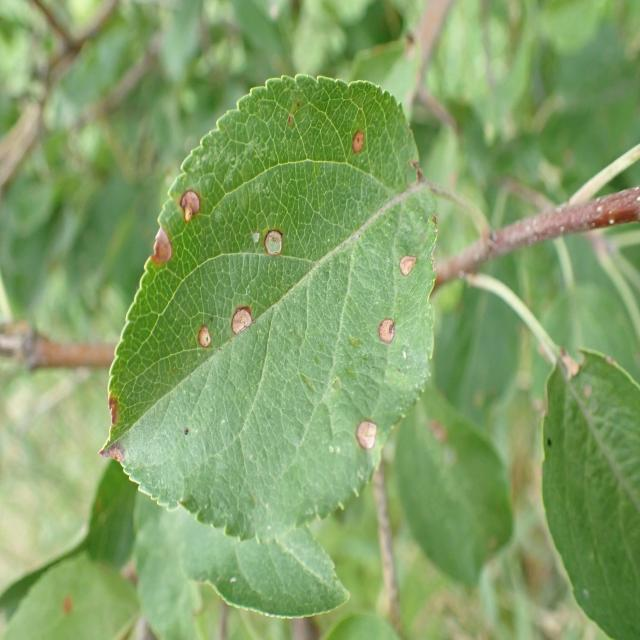frog-eye-leaf-spot: (98, 72, 438, 546)
